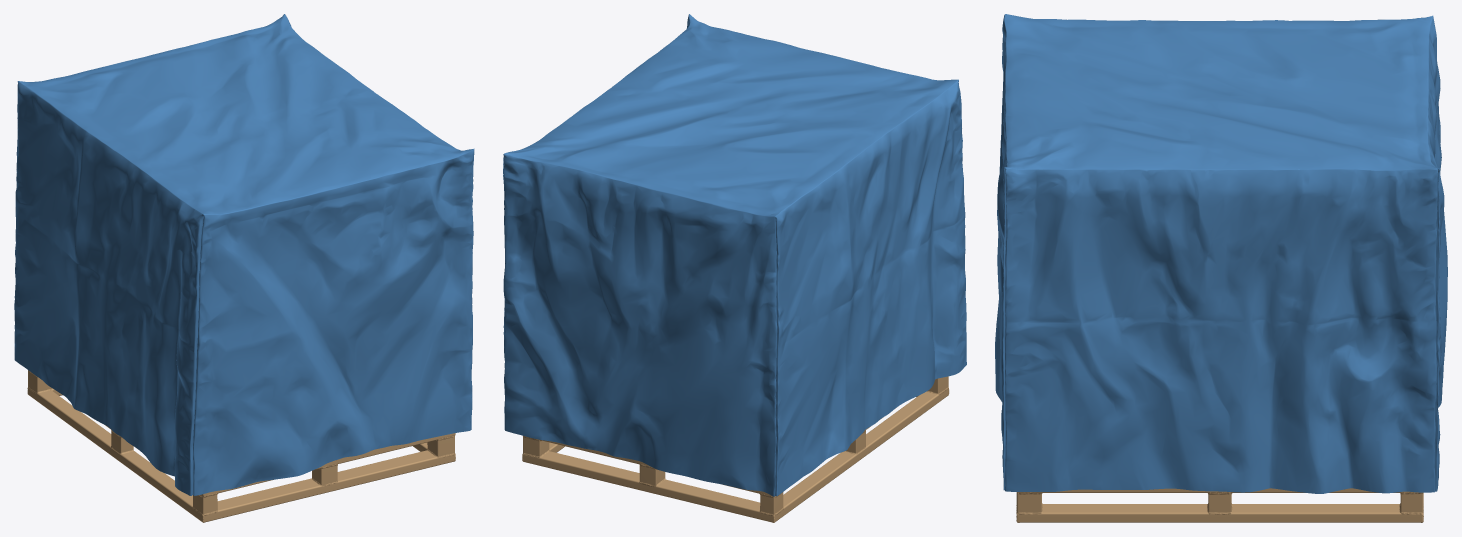
File: pallet_assembly_d01.glb
3 renders of one model, left to right at view 1: azimuth 30°, elevation 25°; view 2: azimuth 150°, elevation 25°; view 3: azimuth 270°, elevation 25°, orthographic. The views are drawn at different scales.
Size of the model in its own units: 1.15 by 1.2 by 1.36.
